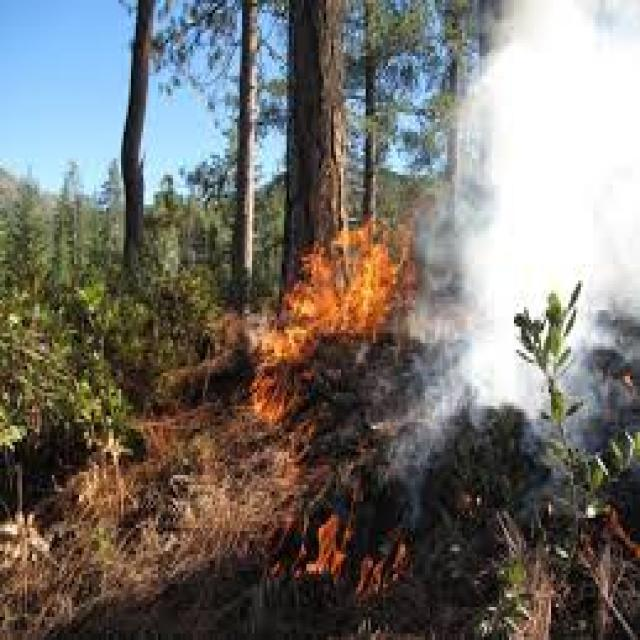Fire: (252, 225, 419, 430), (274, 496, 416, 598)
Smoke: (427, 0, 640, 273)
